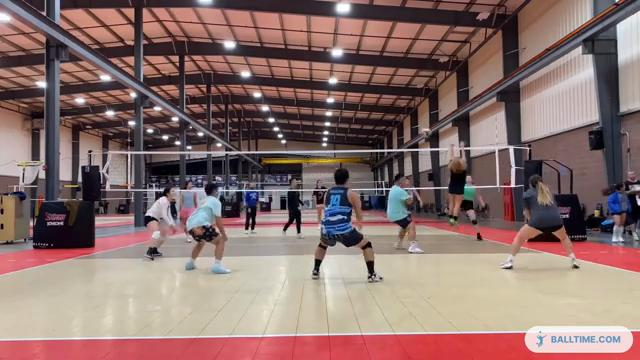muro: (442, 140, 469, 227)
